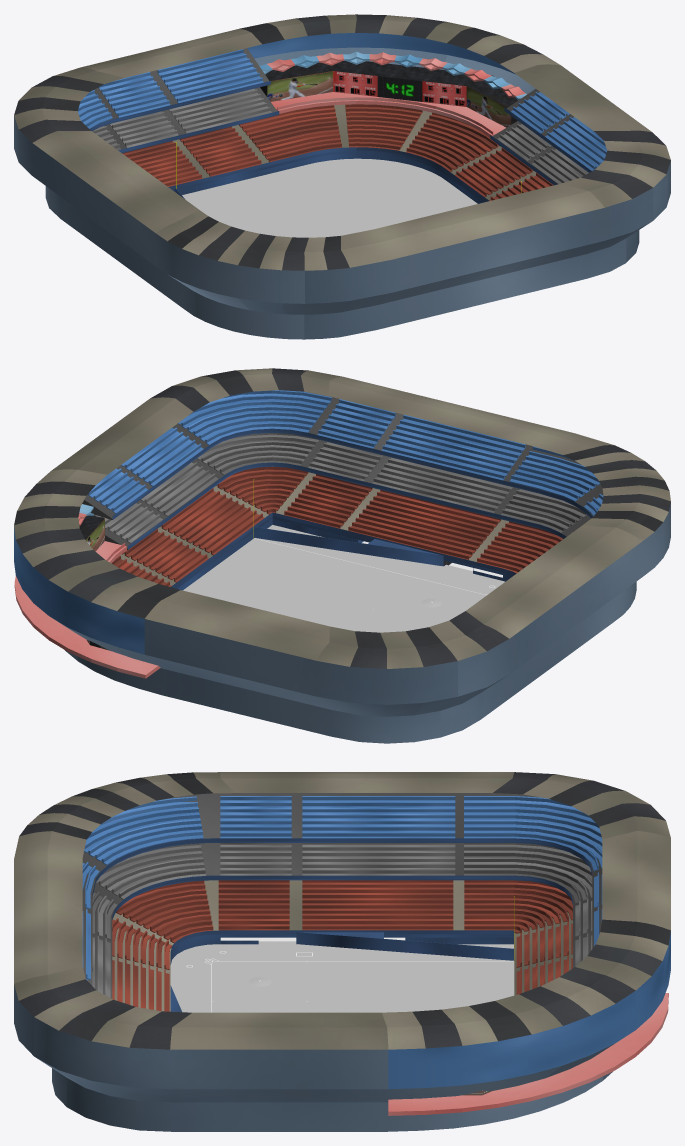
File: BaseballStadium2.fbx
The picture shows the model from 3 angles, top to bottom: view 1: azimuth 30°, elevation 25°; view 2: azimuth 150°, elevation 25°; view 3: azimuth 270°, elevation 25°; orthographic projection. The views are drawn at different scales.
Visible parts, largest first — view 1: BaseballStadium, BaseballField; view 2: BaseballStadium, BaseballField; view 3: BaseballStadium, BaseballField.
Part boxes in pixels (left/top/right/bottom): BaseballStadium: left=14, top=14, right=670, bottom=339; BaseballField: left=182, top=158, right=477, bottom=237; BaseballStadium: left=14, top=368, right=670, bottom=743; BaseballField: left=183, top=525, right=504, bottom=632; BaseballStadium: left=14, top=772, right=670, bottom=1131; BaseballField: left=170, top=941, right=514, bottom=1012.
Size of the model in its own units: 185 by 36.18 by 185.
